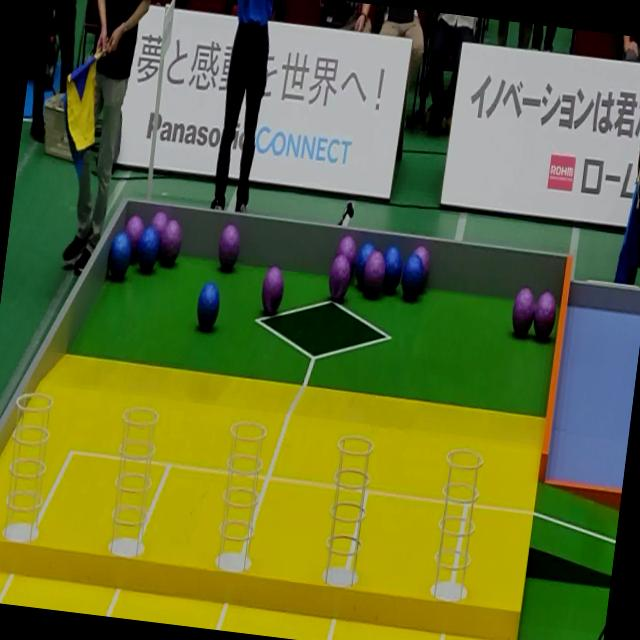blue_ball: (194, 280, 222, 334), (104, 235, 133, 281), (381, 247, 405, 296), (399, 258, 423, 306), (134, 230, 160, 274), (356, 243, 368, 287)
purple_ball: (256, 262, 287, 320), (510, 284, 538, 340), (531, 289, 558, 345), (158, 217, 184, 269), (216, 225, 242, 272), (327, 254, 352, 302), (362, 253, 385, 300), (336, 237, 358, 274), (419, 246, 433, 291), (148, 210, 170, 230), (124, 213, 141, 236)
